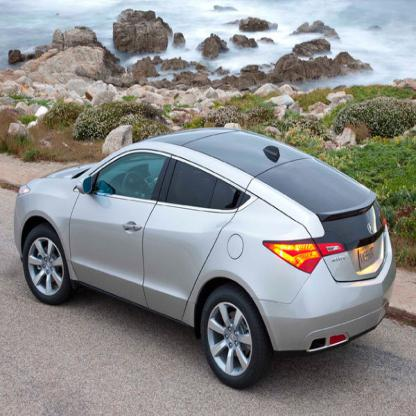car: (13, 128, 396, 392)
